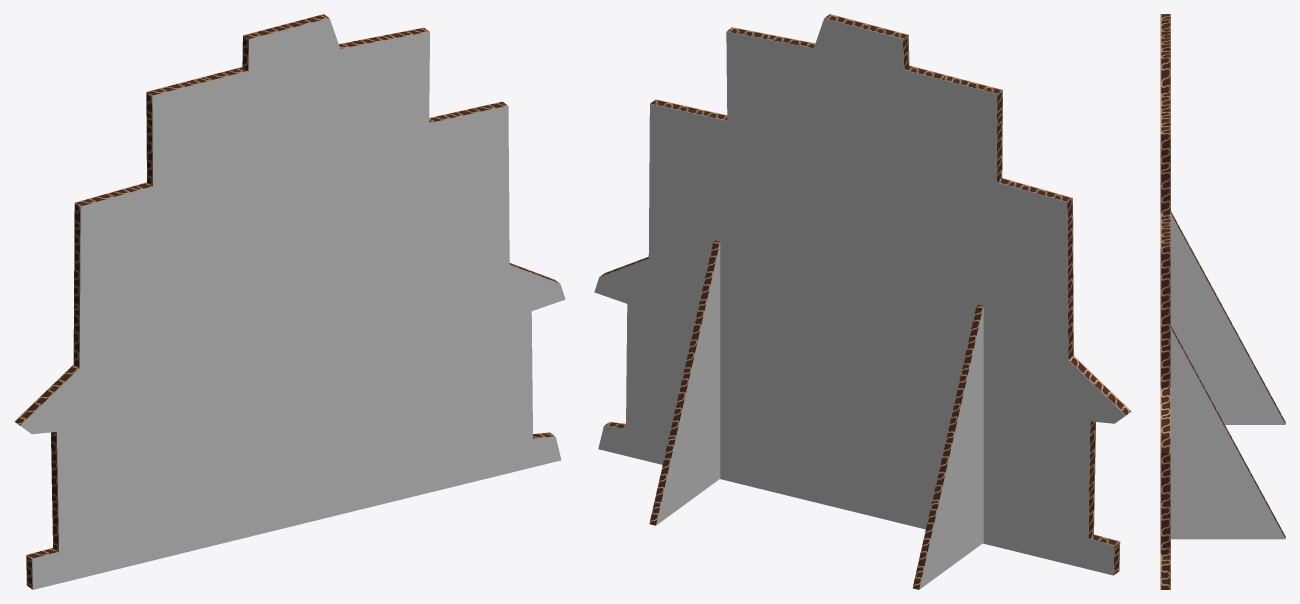
File: Bank.fbx
3 renders of one model, left to right at view 1: azimuth 30°, elevation 25°; view 2: azimuth 150°, elevation 25°; view 3: azimuth 270°, elevation 25°, orthographic. The views are drawn at different scales.
Parts seen in each view (by area): view 1: Bank_LOD0; view 2: Bank_LOD0; view 3: Bank_LOD0.
Boxes of the visible parts, box(x1,y1,x2,y2) form: Bank_LOD0: box(14, 14, 565, 589); Bank_LOD0: box(594, 14, 1131, 589); Bank_LOD0: box(1160, 14, 1285, 589).
Bounding box in the file's own units: 1354 × 1184 × 311.
